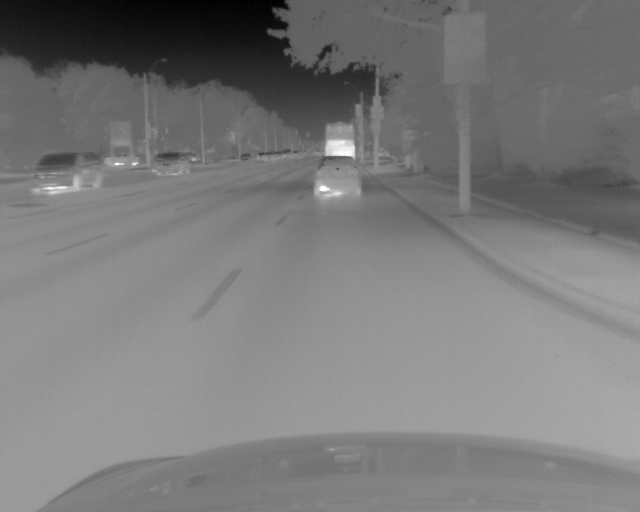car: (30, 151, 105, 191), (313, 154, 361, 197), (323, 121, 355, 160), (151, 152, 189, 177), (255, 152, 268, 162)
